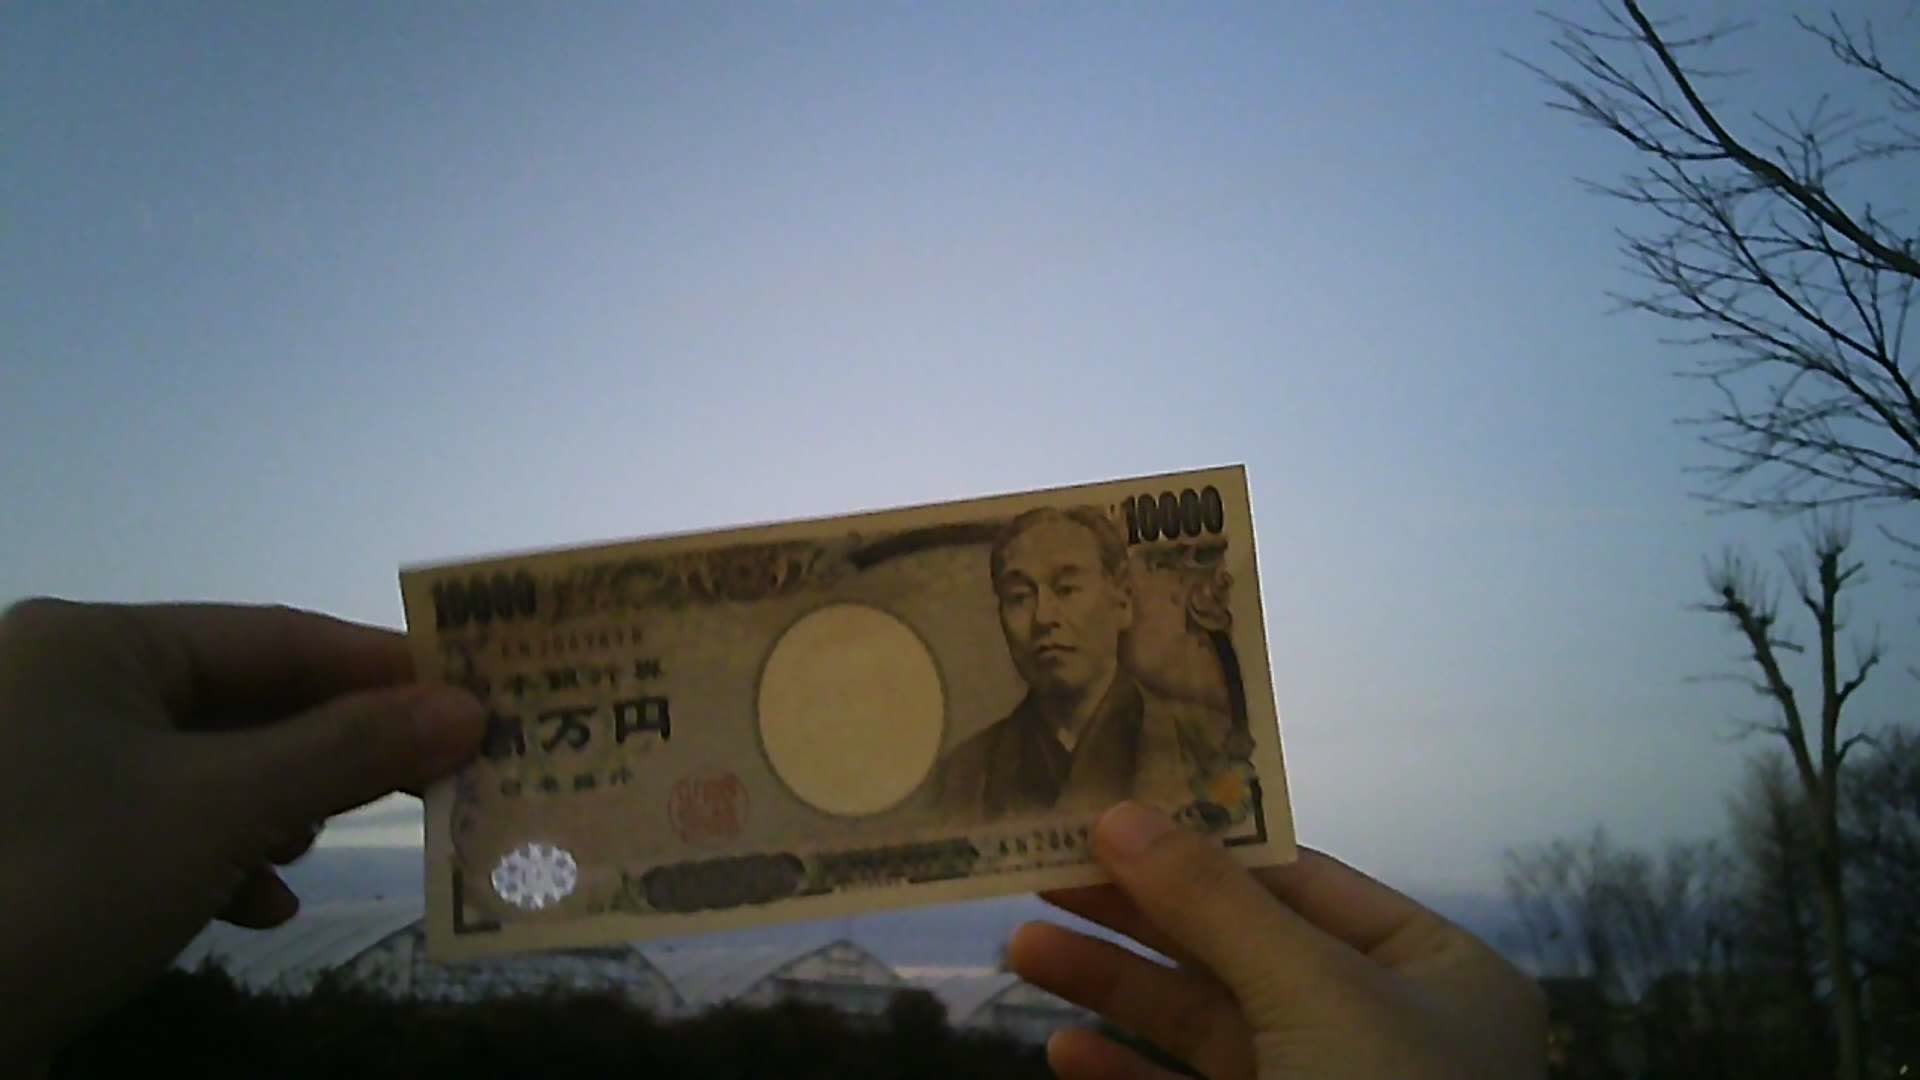10,000 Yen: (396, 456, 1307, 924)
